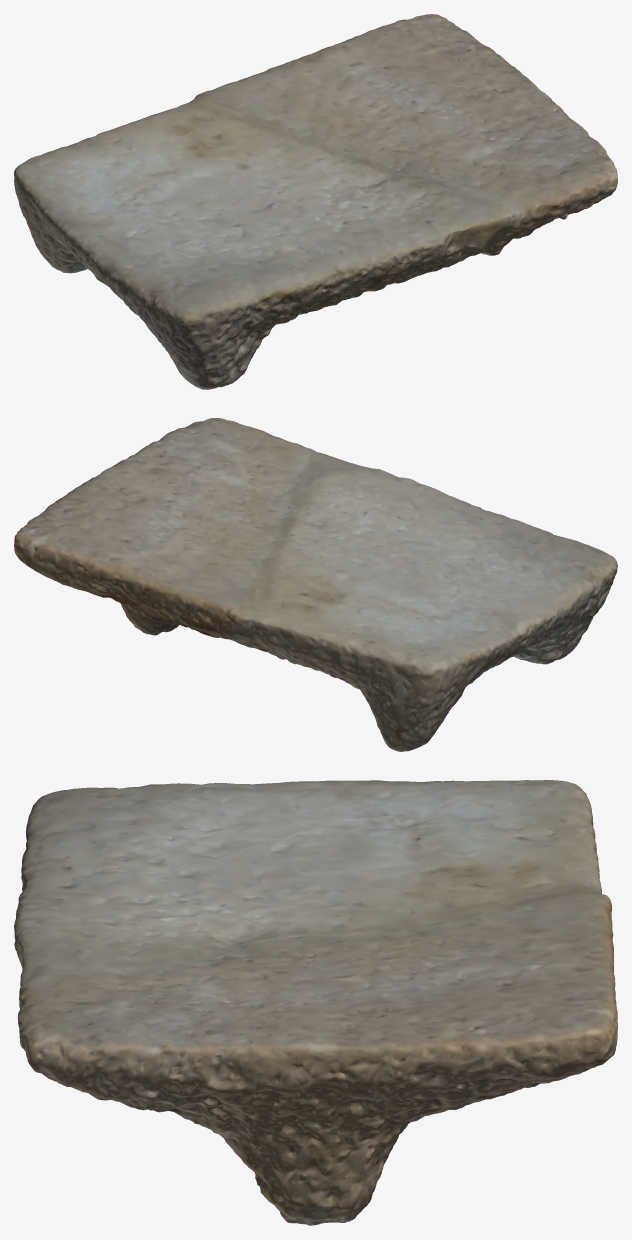
The picture shows the model from 3 angles, top to bottom: view 1: azimuth 30°, elevation 25°; view 2: azimuth 150°, elevation 25°; view 3: azimuth 270°, elevation 25°; orthographic projection. The views are drawn at different scales.
Parts seen in each view (by area): view 1: Mesh_0.008; view 2: Mesh_0.008; view 3: Mesh_0.008.
Part boxes in pixels (x1,y1,x2,y2): Mesh_0.008: (14,14,617,389); Mesh_0.008: (14,418,617,751); Mesh_0.008: (14,780,617,1225).
Size of the model in its own units: 0.1656 by 0.0529 by 0.1258.
1 material, 1 textured.
